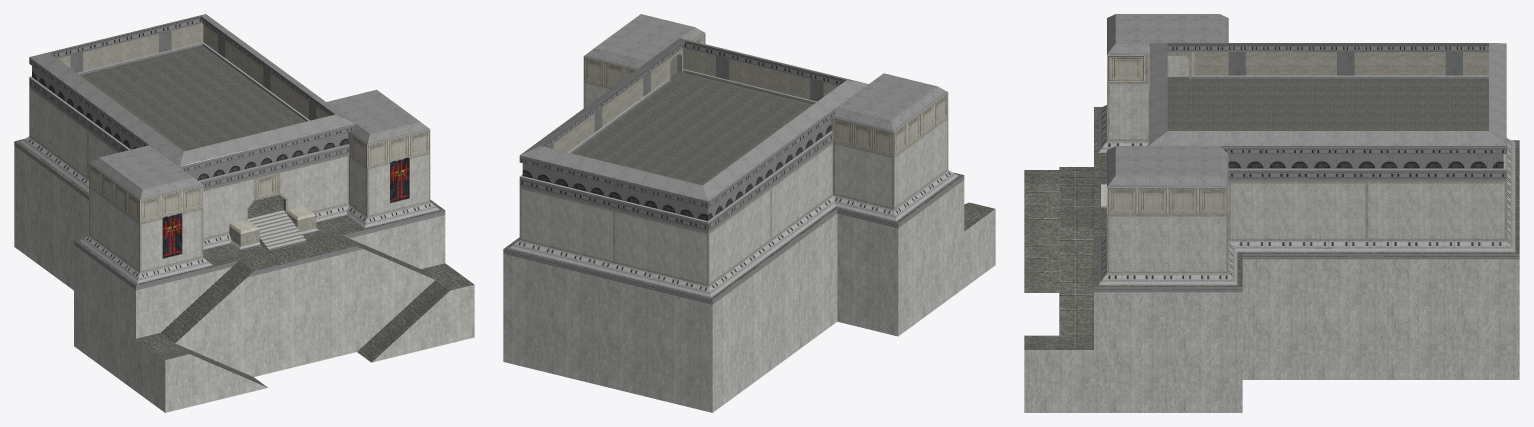
The model's file is ply_corl_assoc_hall_civ_s01_r0_exterior_mesh_exterior_l1.fbx.
3 renders of one model, left to right at view 1: azimuth 30°, elevation 25°; view 2: azimuth 150°, elevation 25°; view 3: azimuth 270°, elevation 25°, orthographic. The views are drawn at different scales.
Visible parts, largest first — view 1: mesh_node; view 2: mesh_node; view 3: mesh_node.
Part boxes in pixels (x1=…): mesh_node: x1=14, y1=14, x2=474, y2=412; mesh_node: x1=503, y1=14, x2=995, y2=412; mesh_node: x1=1024, y1=14, x2=1519, y2=412.
Size of the model in its own units: 49 by 30 by 57.
